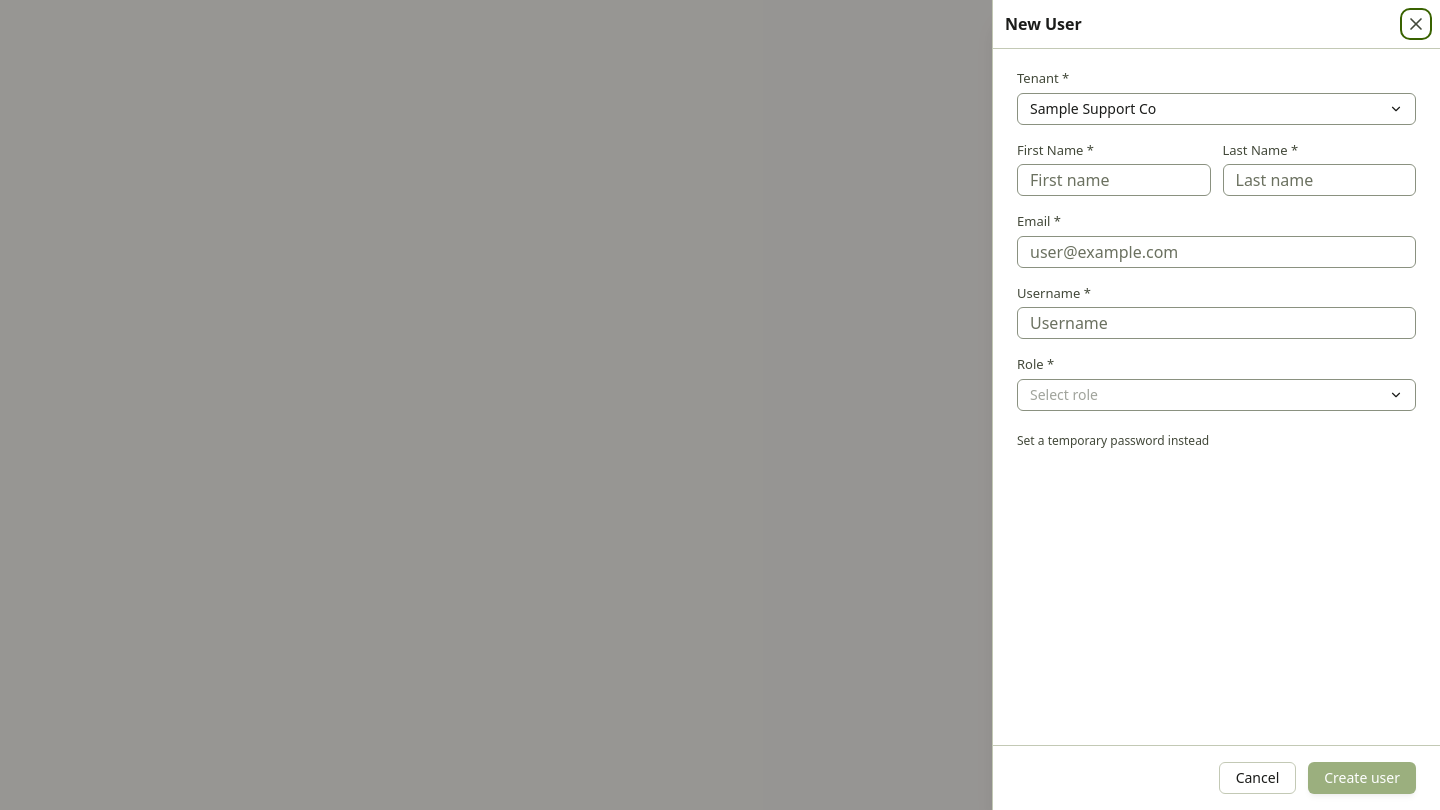
it: UserFormPanel create: an address the server wants checked › asks the admin to check it, in the server's words, instead of showing an error
In the field labelled "First Name *": (1114, 180) [1017, 164, 1210, 196], type "New"
In the field labelled "Last Name *": (1319, 180) [1222, 164, 1416, 196], type "Person"
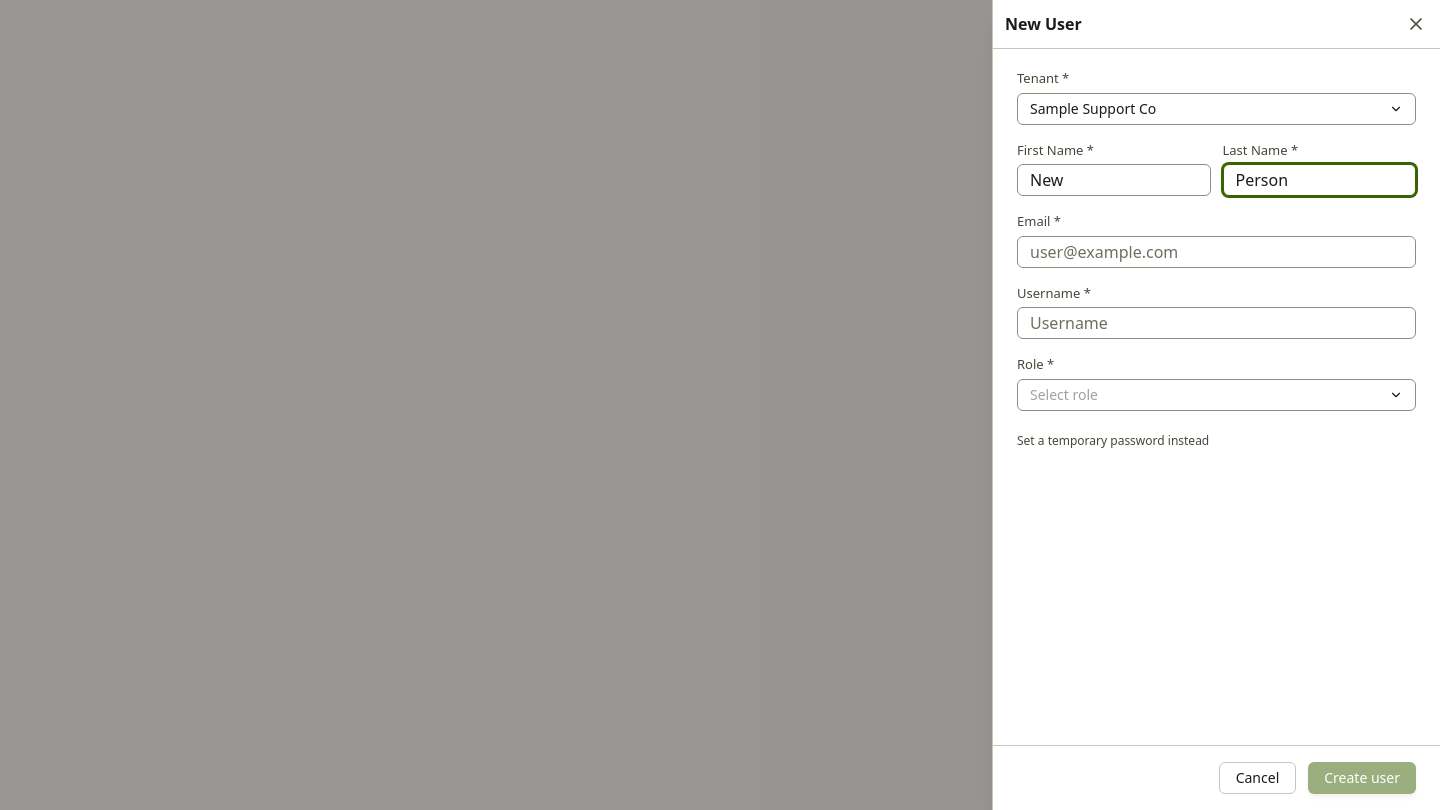
In the field labelled "Email *": (1216, 252) [1017, 236, 1416, 268], type "new.person@gmial.com"
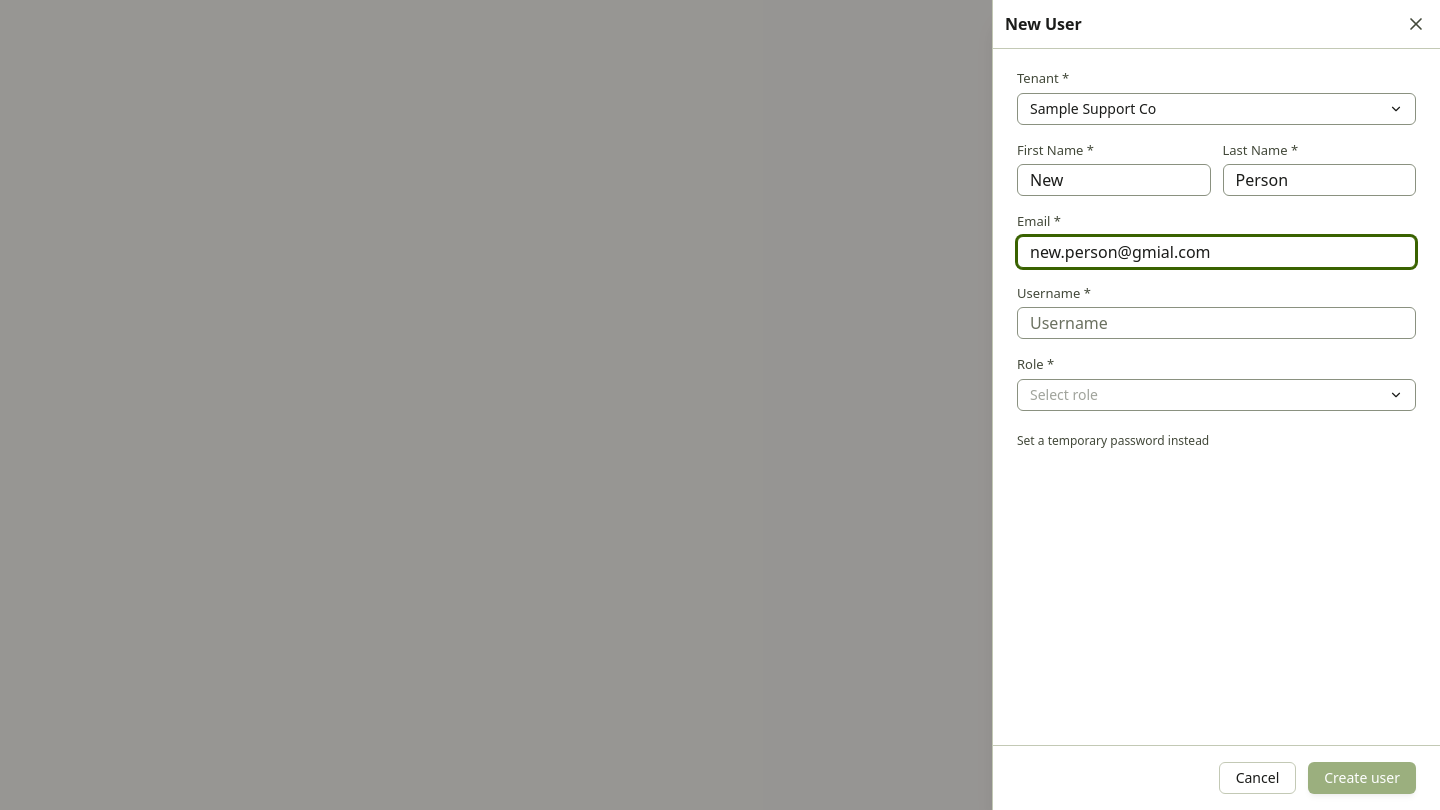
In the field labelled "Username *": (1216, 323) [1017, 307, 1416, 339], type "newperson"
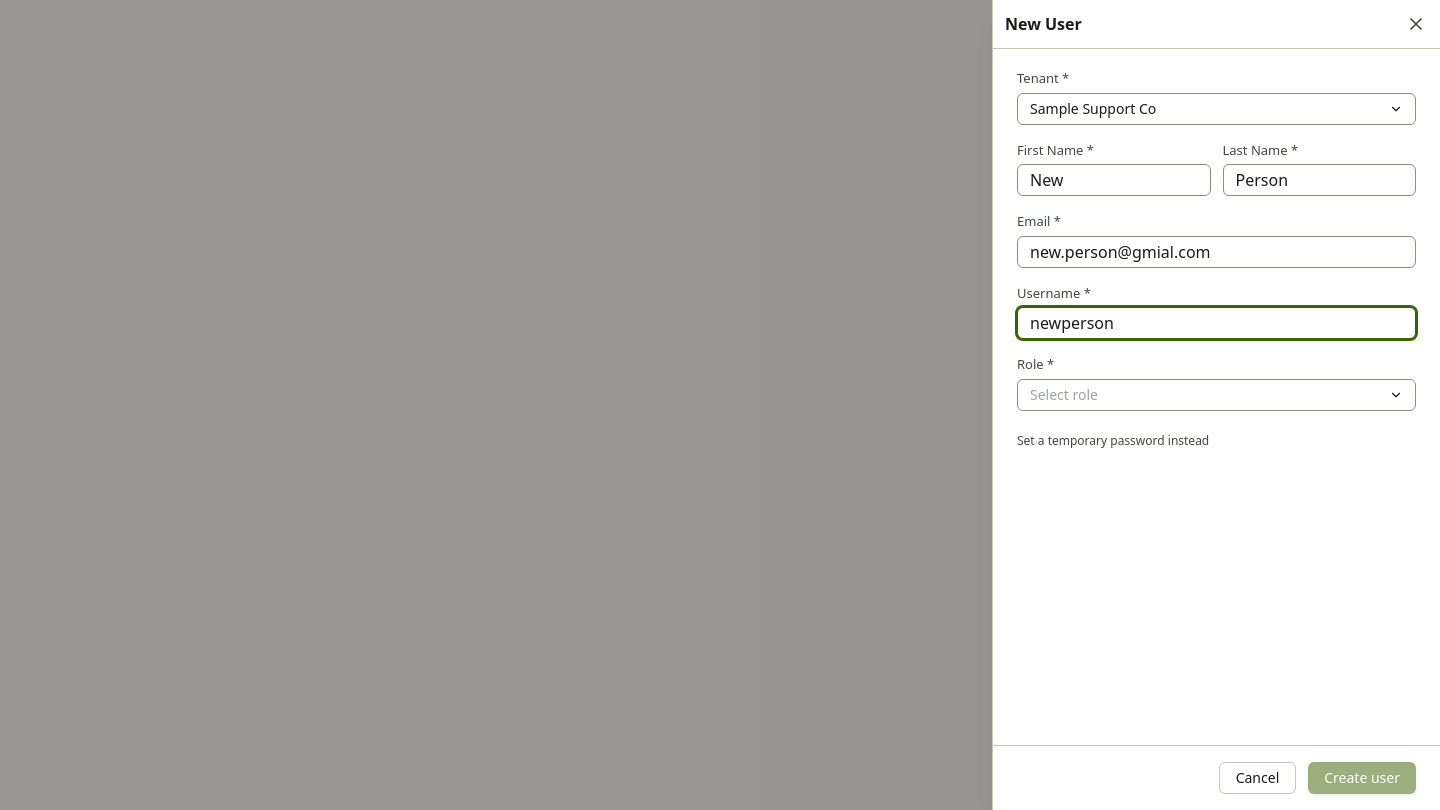
Click the button named "Role *": (1064, 394) [1017, 378, 1416, 410]
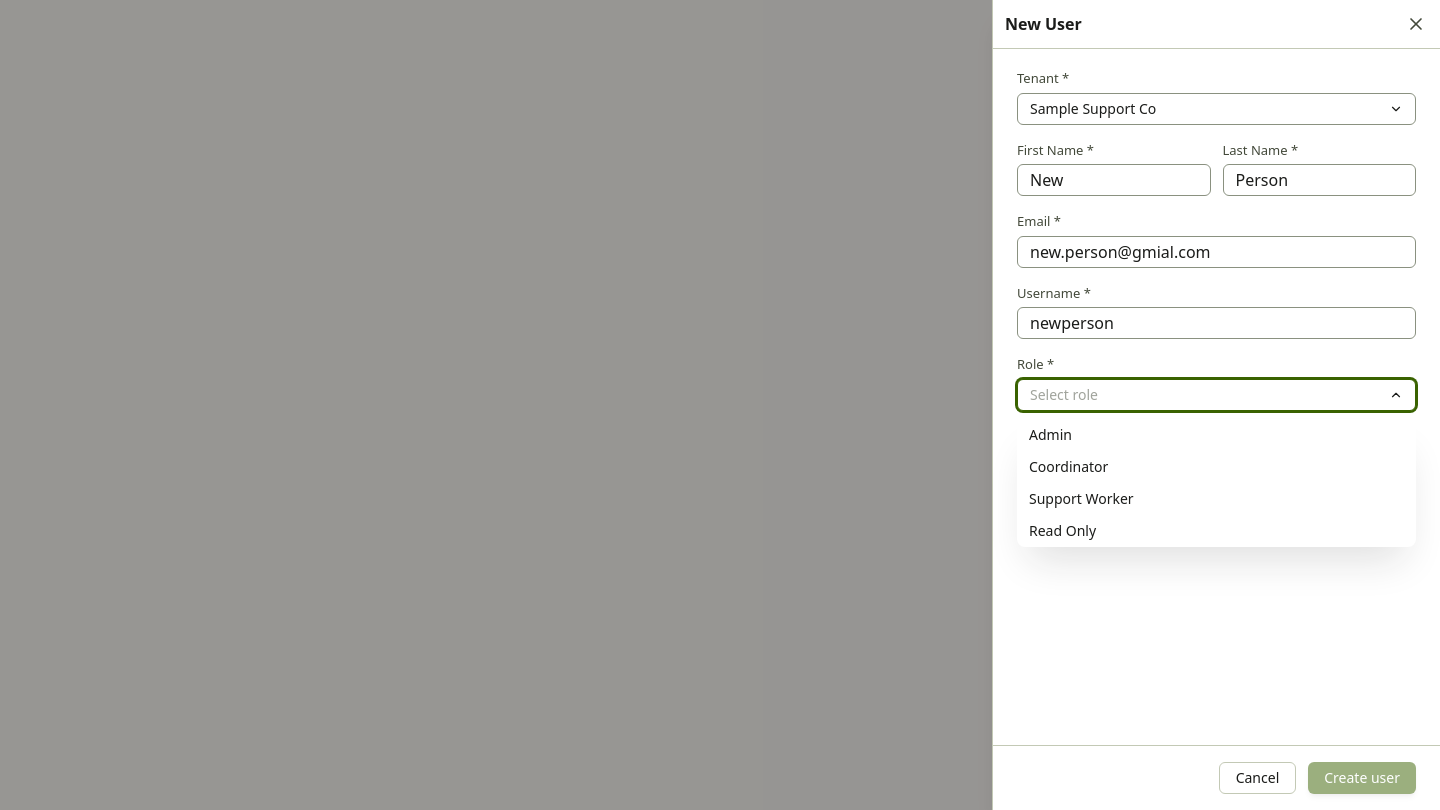
Click the option "Coordinator": (1069, 466) [1029, 456, 1108, 476]
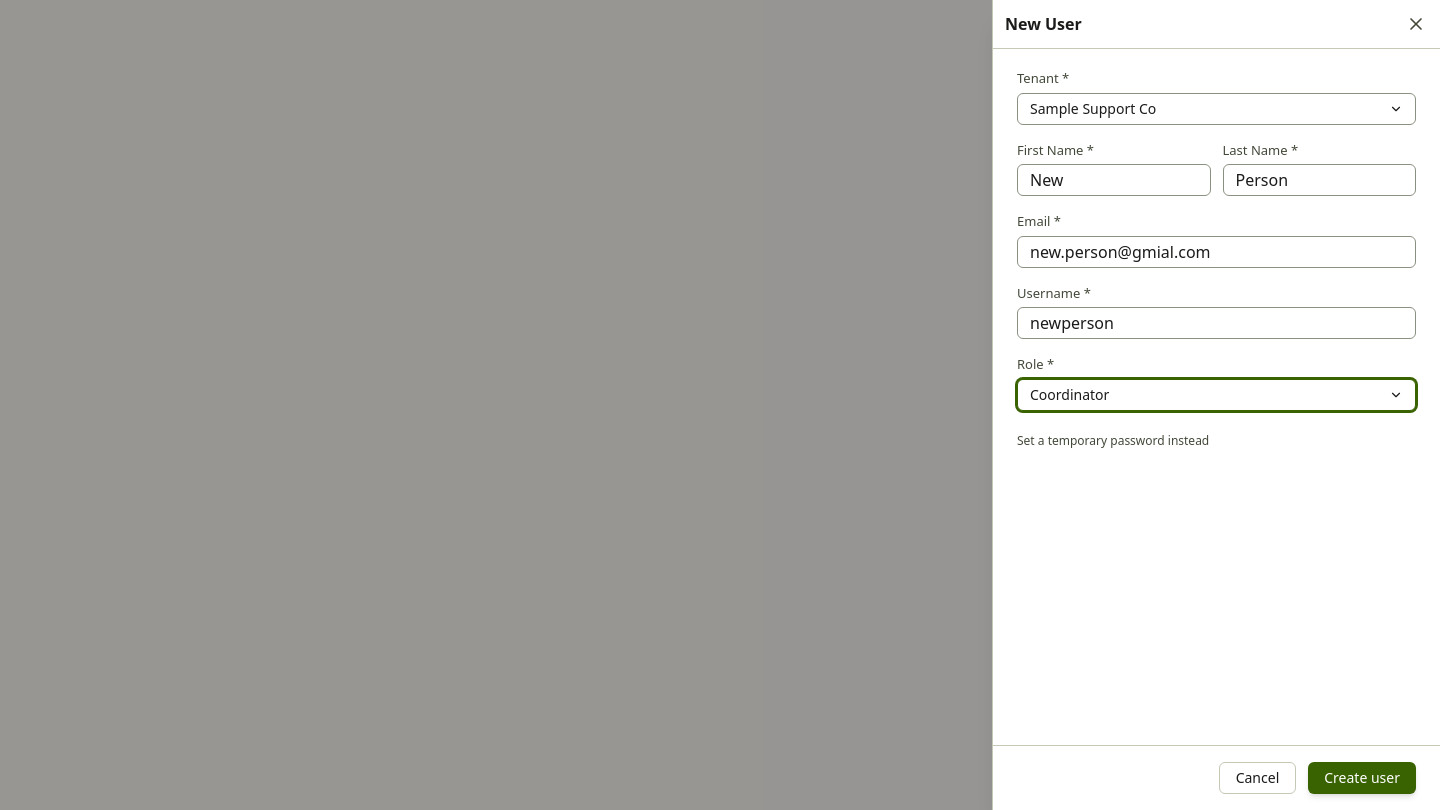
Click the button "Create user": (1362, 778) [1308, 762, 1416, 794]
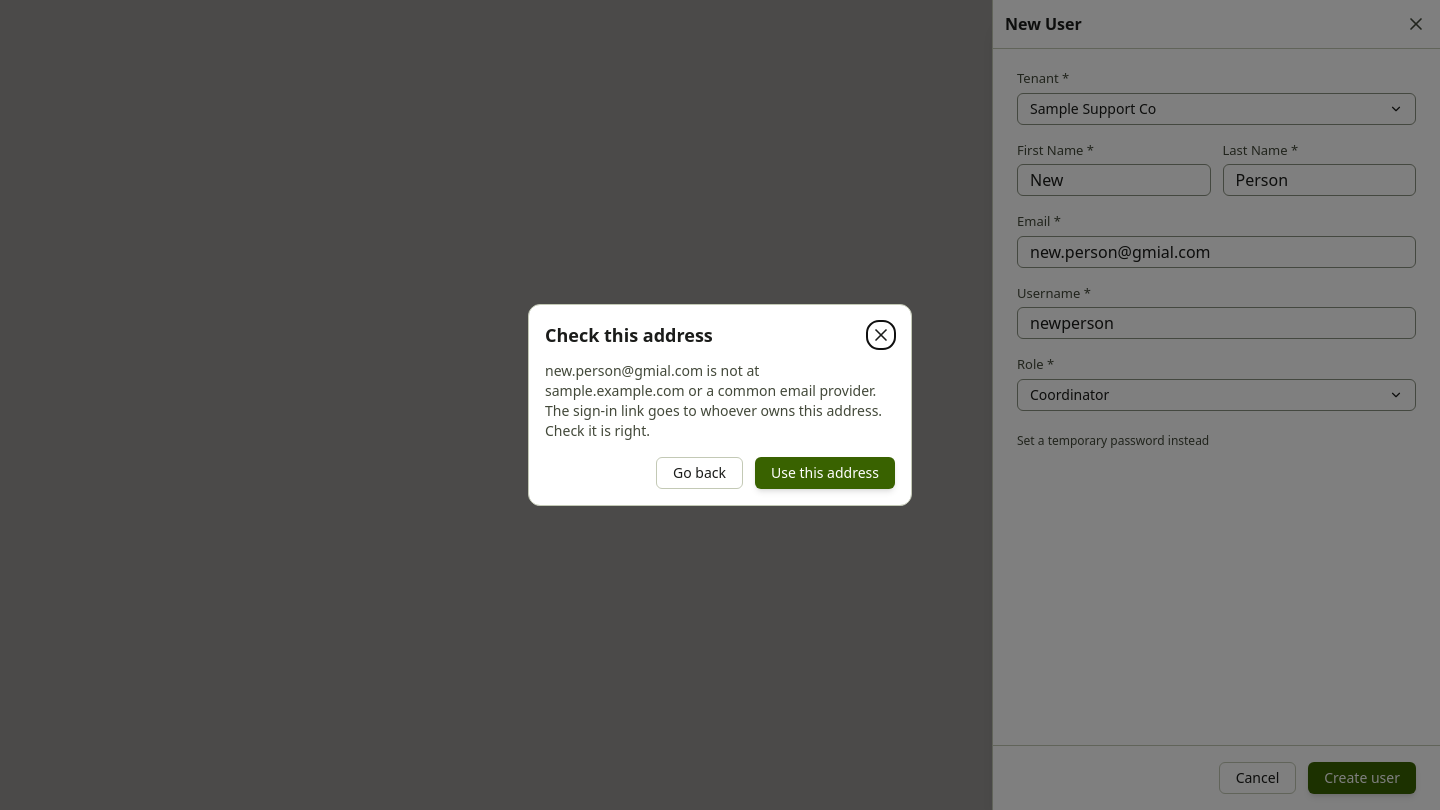
Check: the button "Use this address" is shown, box [755, 457, 895, 489]
Check: the button "Go back" is shown, box [656, 457, 743, 489]
